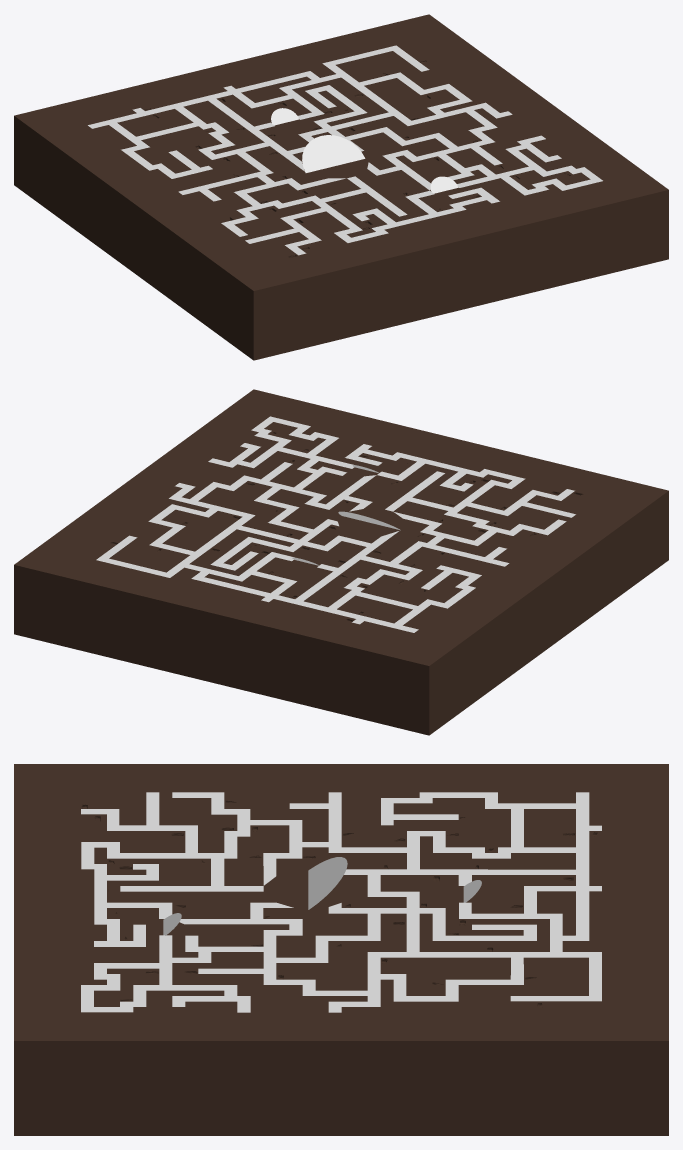
The model's file is Boden.fbx.
3 views of the same model, one above another, from view 1: azimuth 30°, elevation 25°; view 2: azimuth 150°, elevation 25°; view 3: azimuth 270°, elevation 25° (orthographic). The views are drawn at different scales.
Visible parts, largest first — view 1: Cube.052, Weg, Weg_Kreis_mitte; view 2: Cube.052, Weg; view 3: Cube.052, Weg, Weg_Kreis_mitte.
Boxes of the visible parts, left/top/right/bottom form: Cube.052: left=14, top=14, right=668, bottom=360; Weg: left=88, top=45, right=602, bottom=255; Weg_Kreis_mitte: left=302, top=135, right=365, bottom=172; Cube.052: left=14, top=389, right=668, bottom=735; Weg: left=96, top=416, right=575, bottom=632; Cube.052: left=14, top=764, right=668, bottom=1135; Weg: left=81, top=792, right=601, bottom=1012; Weg_Kreis_mitte: left=308, top=857, right=347, bottom=909.
Size of the model in its own units: 5000 by 1026 by 5000.
